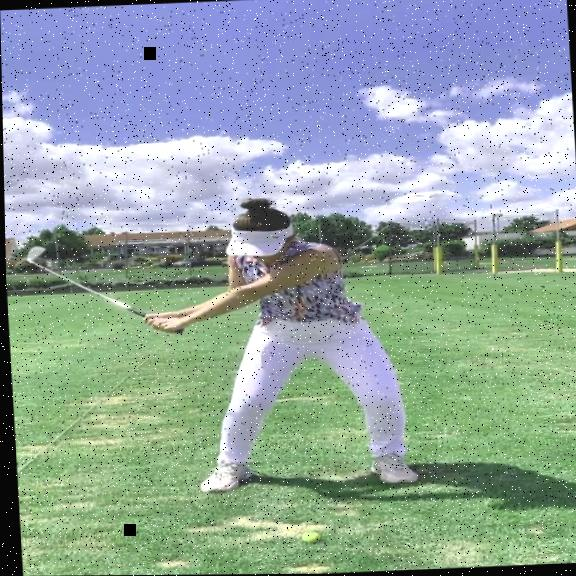ClubHead: (23, 244, 45, 260)
GolfBall: (300, 533, 317, 542)
